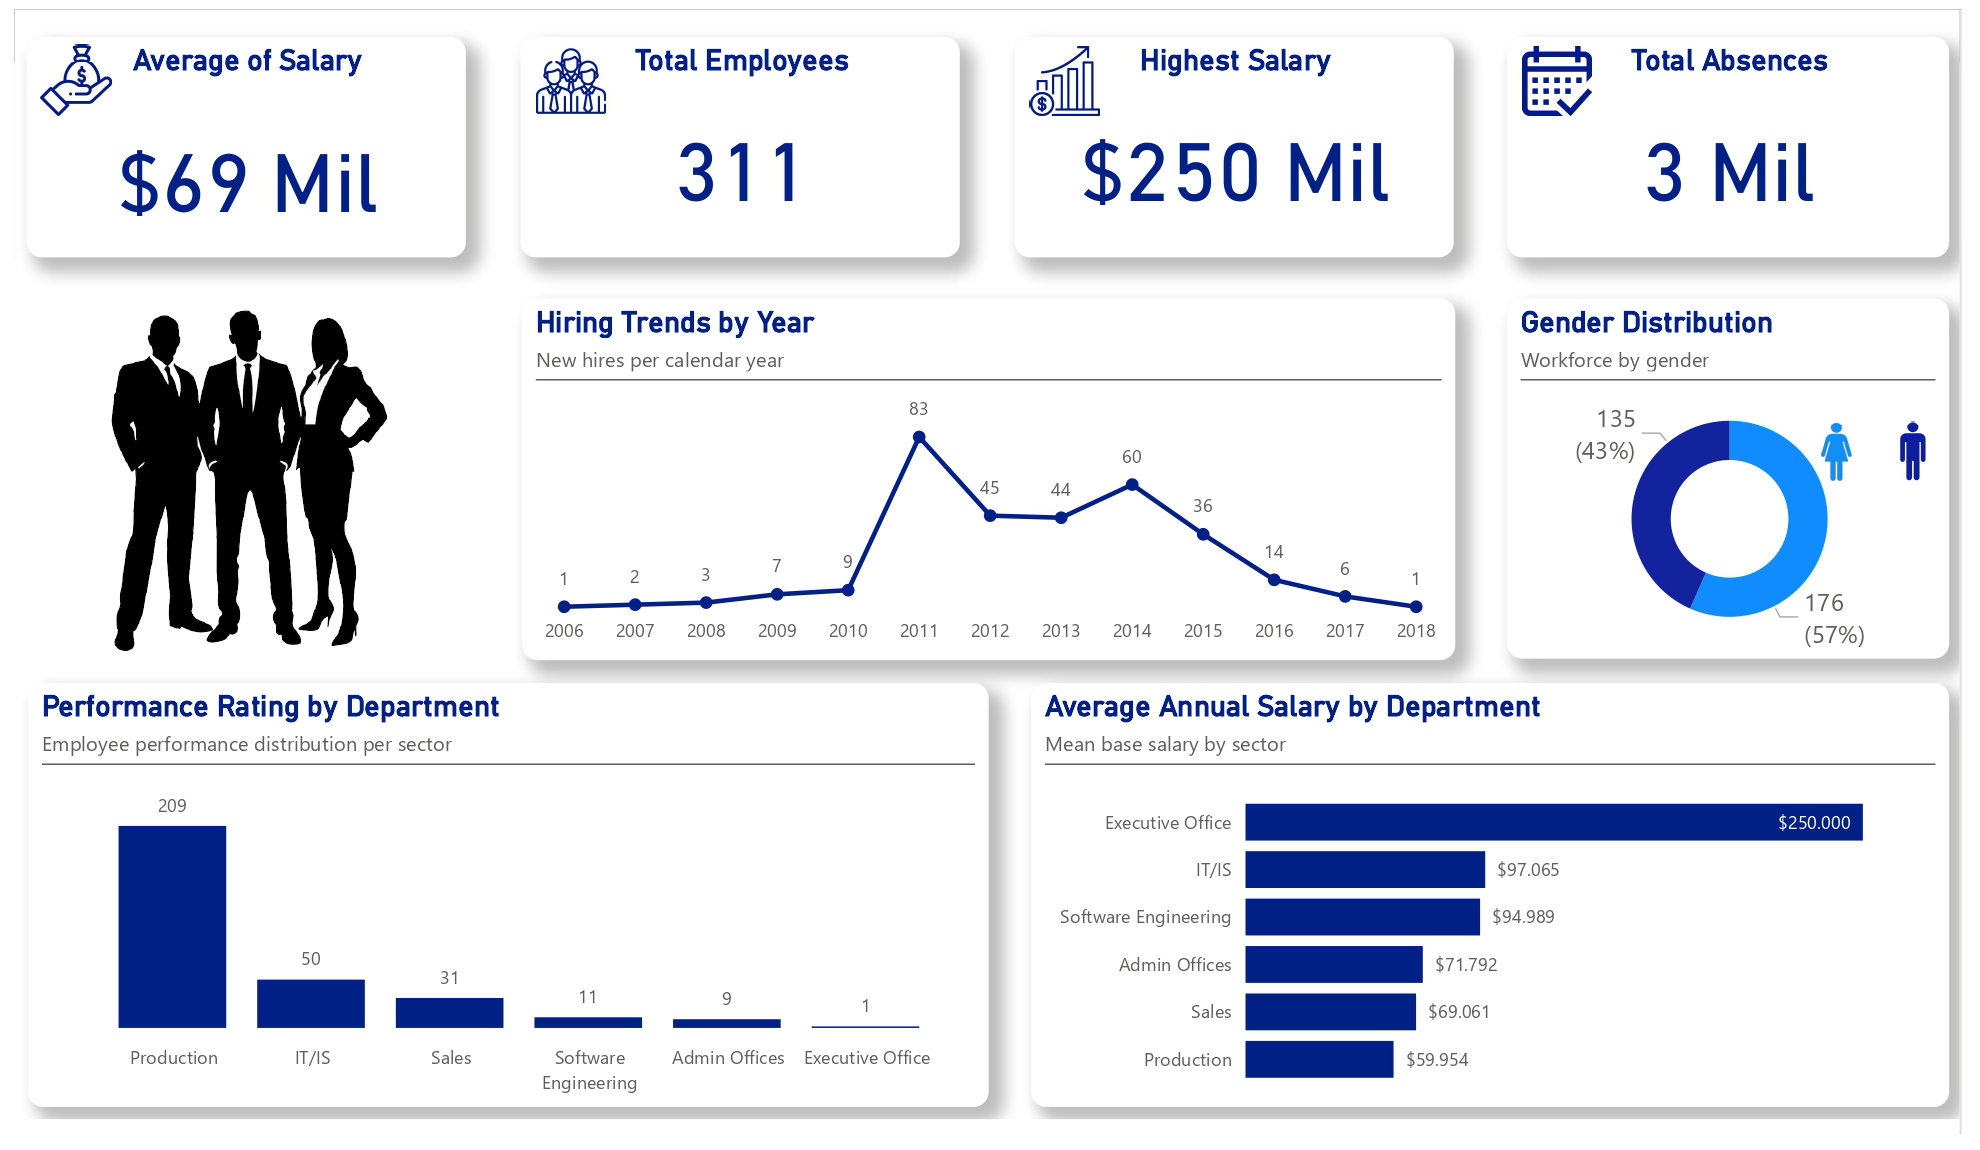

The page's visual inventory and layout, read from the dashboard file:
{"tool":"powerbi","page":{"name":"Página 1","canvas":[1280,720],"ordinal":0},"visuals":[{"type":"cardVisual","title":"Average of Salary","fields":{"Data":["Avg(HRDataset_v14.Salary)"]},"box":[8.4,8.4,288.9,144.5],"z":0},{"type":"image","box":[8.4,8.4,65,57],"z":2},{"type":"cardVisual","title":"Total Employees","fields":{"Data":["HRDataset_v14.Total Employees"]},"box":[333.1,8.4,288.9,144.5],"z":3},{"type":"image","box":[332.8,8.8,65.1,56.3],"z":4},{"type":"cardVisual","title":"Highest Salary","fields":{"Data":["HRDataset_v14.Max Salary"]},"box":[657.8,8.4,288.9,144.5],"z":5},{"type":"image","box":[658.5,8.8,65.1,56.3],"z":6},{"type":"cardVisual","title":"Total Absences","fields":{"Data":["Sum(HRDataset_v14.Absences)"]},"box":[982.4,8.4,290.5,144.4],"z":7},{"type":"image","box":[982.4,8.8,65.1,56.3],"z":8},{"type":"donutChart","title":"Gender Distribution","fields":{"Category":["HRDataset_v14.Sex"],"Y":["CountNonNull(HRDataset_v14.Sex)"]},"box":[982.4,179.6,290.5,237.7],"z":9},{"type":"lineChart","title":"Hiring Trends by Year","fields":{"Category":["HRDataset_v14.DateofHire.Variation.Hierarquia de datas.Ano"],"Y":["CountNonNull(HRDataset_v14.Employee_Name)"]},"box":[333.7,180.1,614.4,238.3],"z":10},{"type":"image","box":[1174.1,256,49.4,49.4],"z":11},{"type":"image","box":[1223.5,256,49.4,49.4],"z":12},{"type":"clusteredBarChart","title":"Average Annual Salary by Department","fields":{"Category":["HRDataset_v14.Department"],"Y":["Avg(HRDataset_v14.Salary)"]},"box":[669.1,432.6,603.8,279],"z":13},{"type":"columnChart","title":"Performance Rating by Department","fields":{"Category":["HRDataset_v14.Department"],"Y":["CountNonNull(HRDataset_v14.EmpID)"]},"box":[8.8,432.6,632.1,279],"z":14},{"type":"image","box":[8.8,180.1,289.5,238.3],"z":15}]}

Visuals, with their boxes on the page's 1280x720 design canvas (x1, y1, x2, y2). These are canvas units, not pixel positions in the 1980x1150 screenshot, which may show the page scaled, cropped or inside an application window:
"Average of Salary" cardVisual: select_region(8, 8, 297, 153)
image: select_region(8, 8, 73, 65)
"Total Employees" cardVisual: select_region(333, 8, 622, 153)
image: select_region(333, 9, 398, 65)
"Highest Salary" cardVisual: select_region(658, 8, 947, 153)
image: select_region(658, 9, 724, 65)
"Total Absences" cardVisual: select_region(982, 8, 1273, 153)
image: select_region(982, 9, 1048, 65)
"Gender Distribution" donutChart: select_region(982, 180, 1273, 417)
"Hiring Trends by Year" lineChart: select_region(334, 180, 948, 418)
image: select_region(1174, 256, 1224, 305)
image: select_region(1224, 256, 1273, 305)
"Average Annual Salary by Department" clusteredBarChart: select_region(669, 433, 1273, 712)
"Performance Rating by Department" columnChart: select_region(9, 433, 641, 712)
image: select_region(9, 180, 298, 418)
